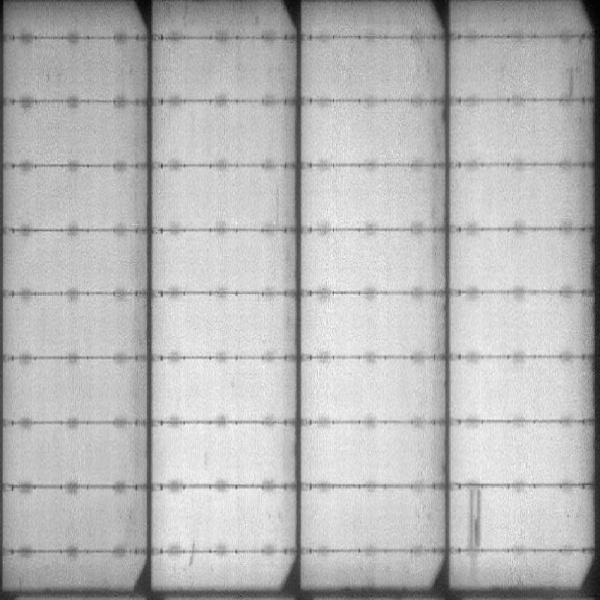scratch: (466, 486, 488, 547)
